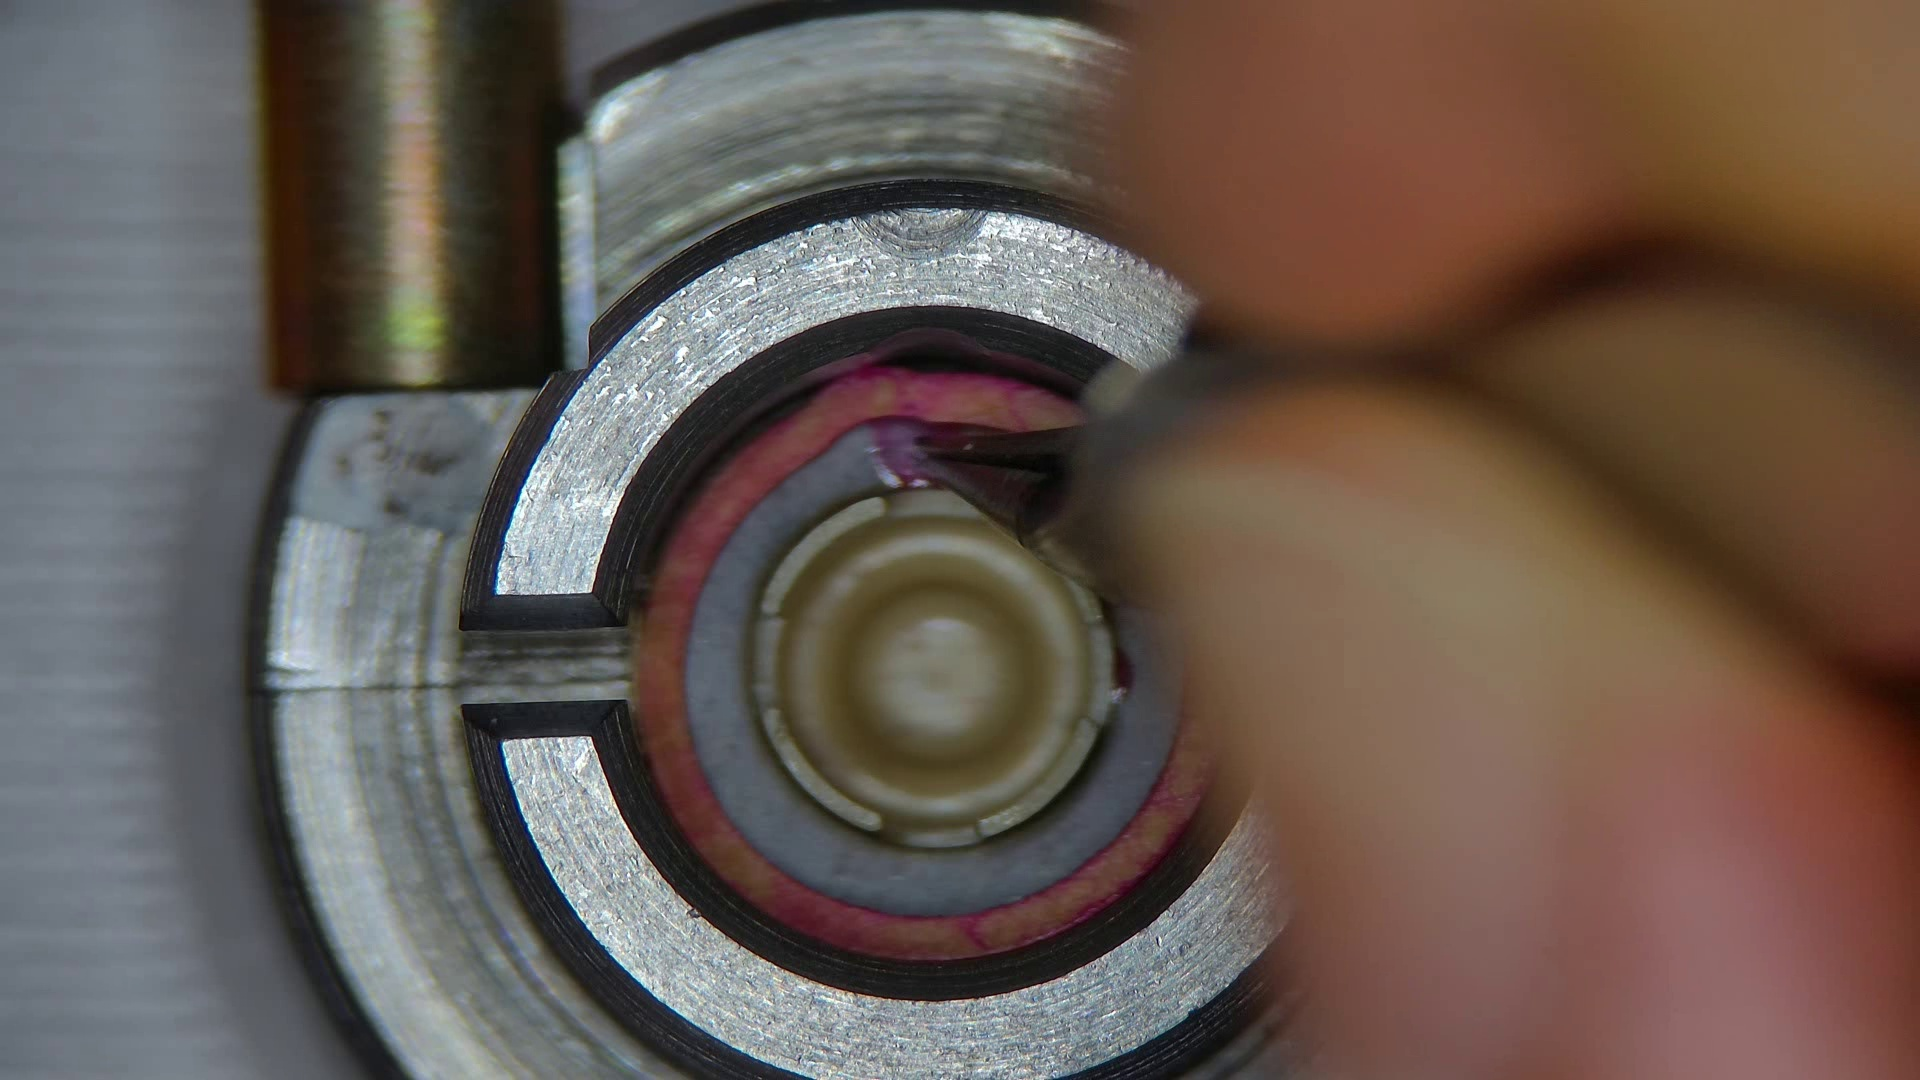GreyOring: (640, 371, 1195, 957)
YellowOring: (688, 419, 1180, 914)
